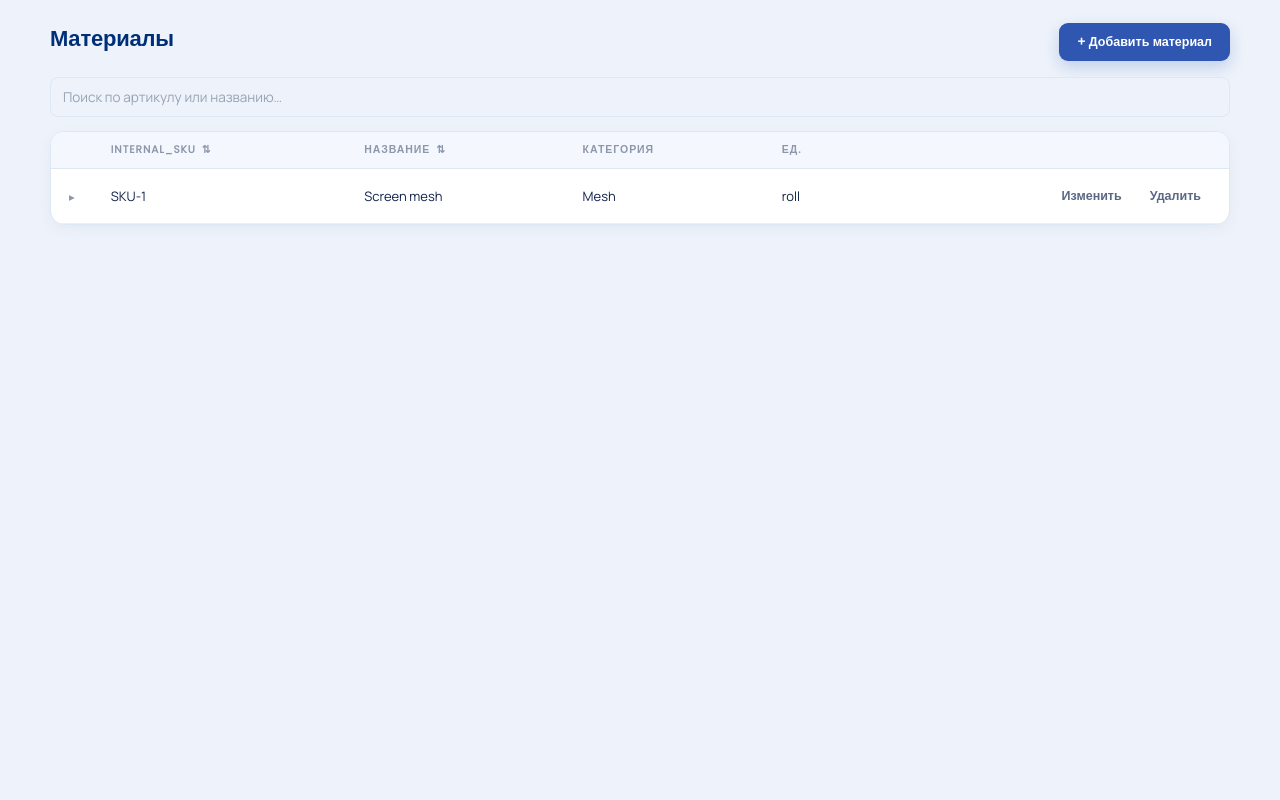
Test: MaterialsPage — creating a material (ADR-0034) › creates a material via a category select, without any internal_sku input, and shows the generated SKU
The width and height of the screenshot is (1280, 800).
Expected: the text "Screen mesh" is shown, [346,168,565,224]
Click the button "+ Добавить материал".
click(1144, 42)  # box [1059,23,1230,61]
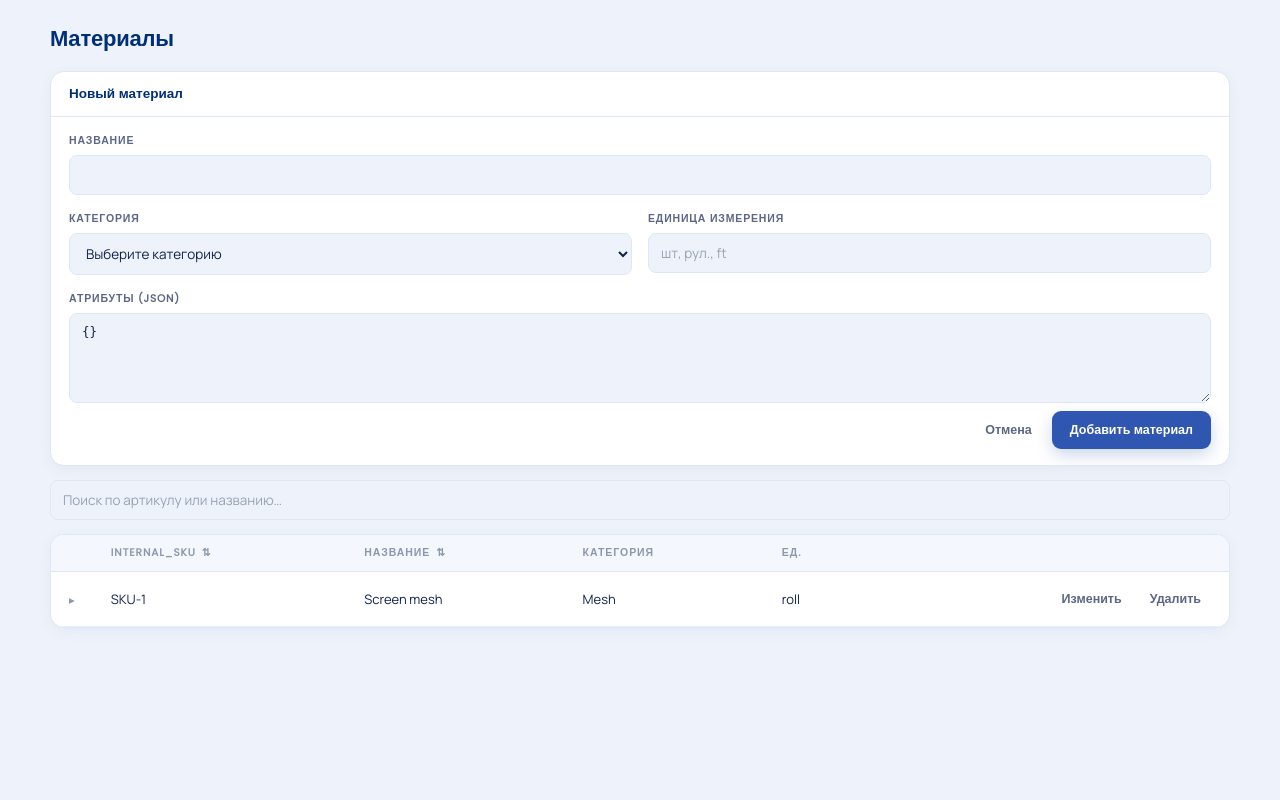
Type "New door" into the field labelled "Название".
click(640, 175); type("New door")  # box [69,155,1211,195]
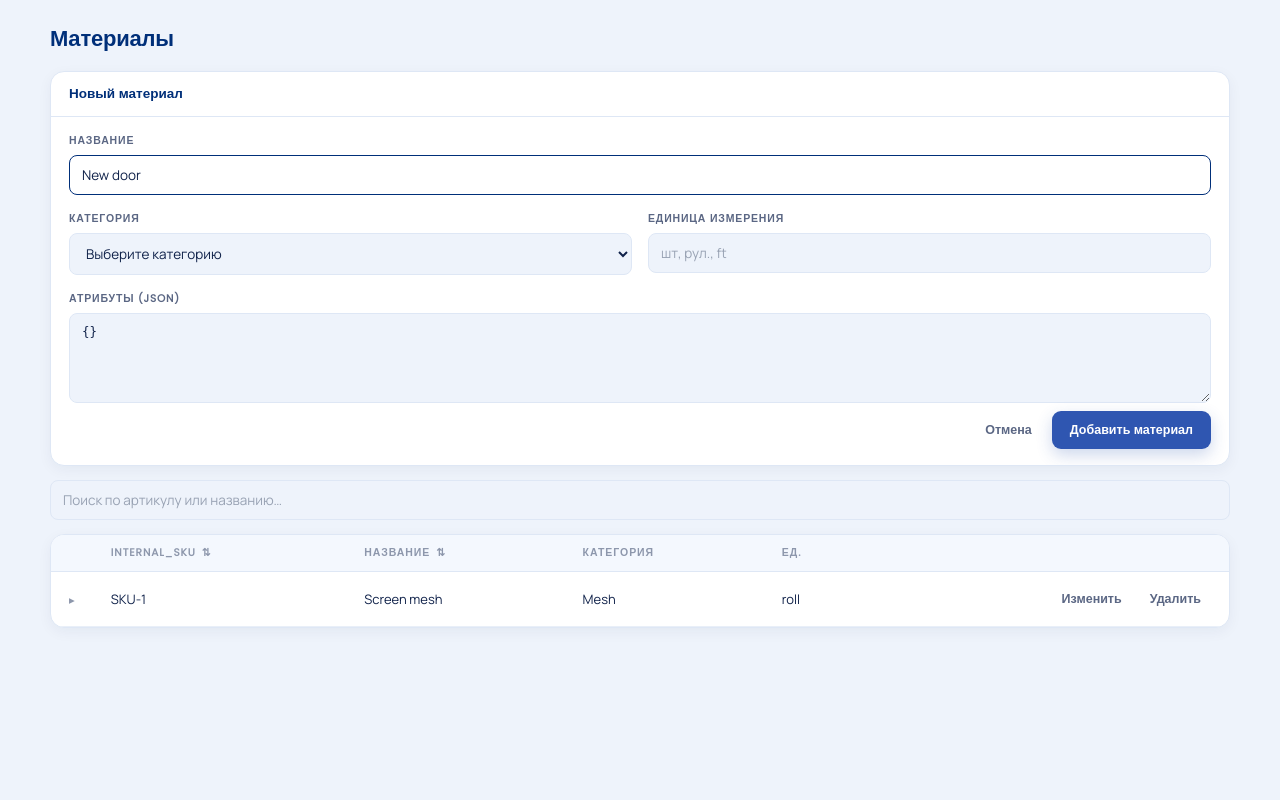
Type "шт" into the field labelled "Единица измерения".
click(930, 253); type("шт")  # box [648,233,1211,273]
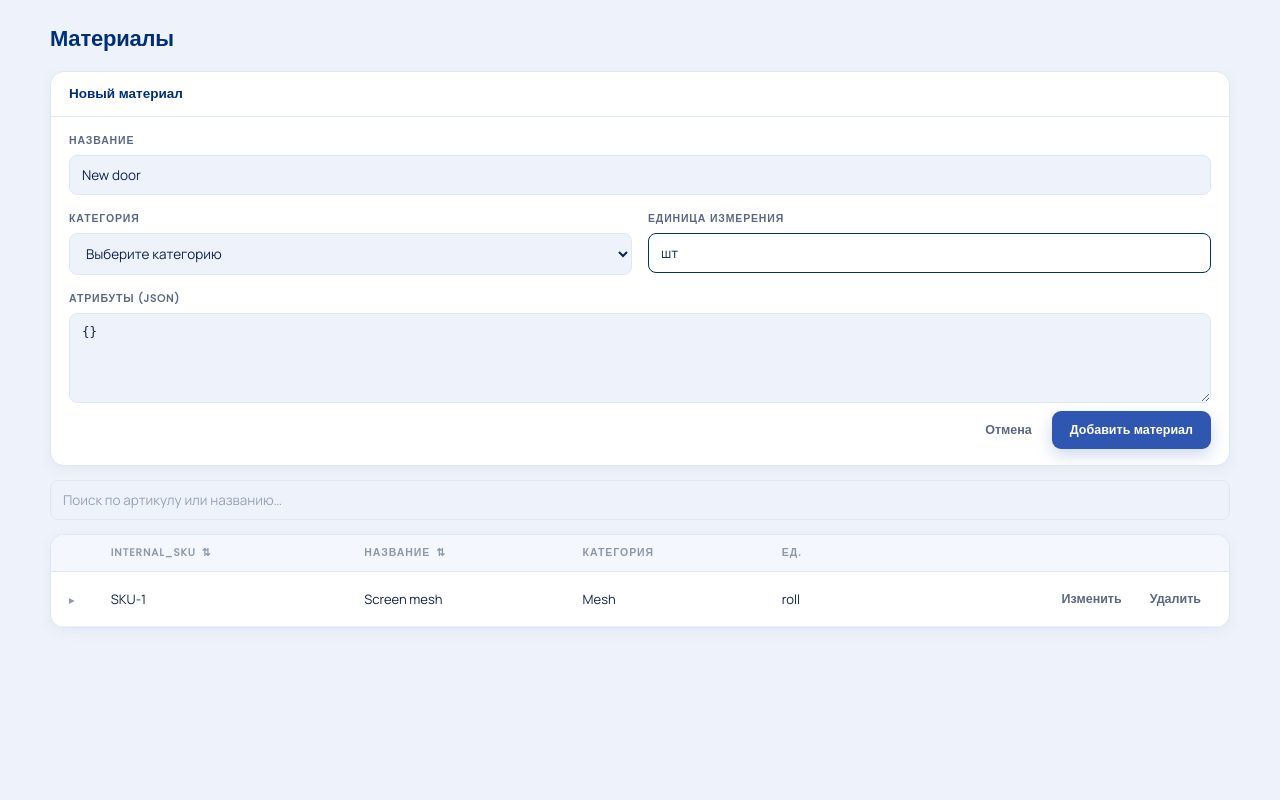
Select "Doors" in the dropdown labelled "Категория" at (350, 254), box [69,233,632,275]
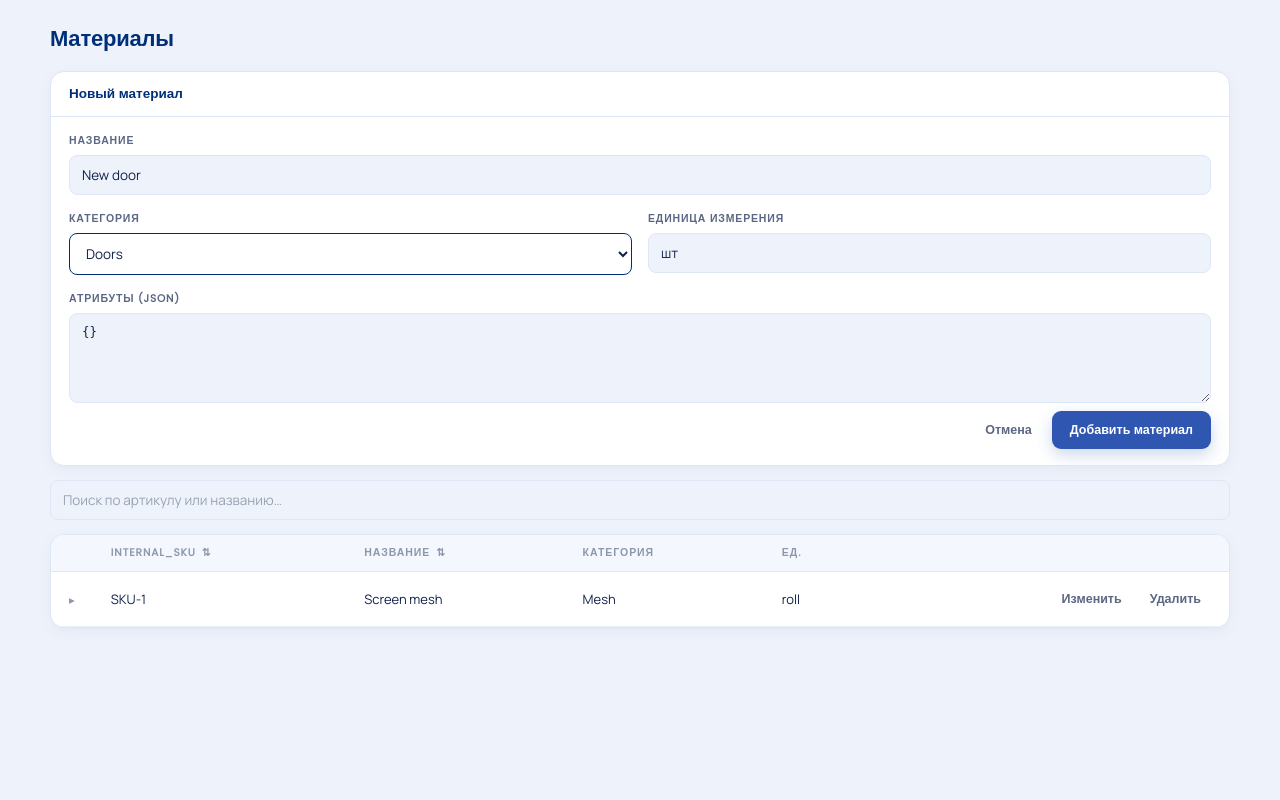
Click the button "Добавить материал".
click(1131, 430)  # box [1052,411,1211,449]
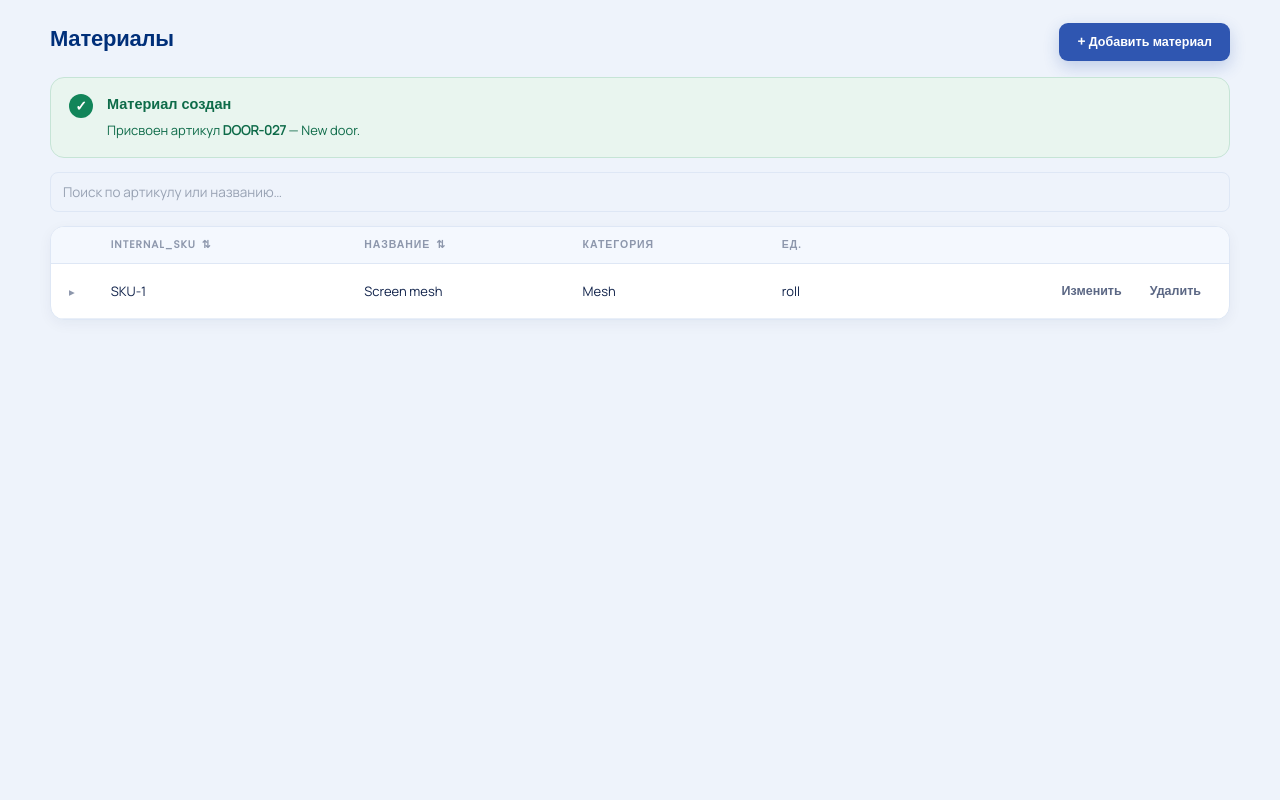
Expected: the text "DOOR-027" is shown, [223,121,286,139]
